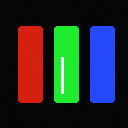4 line_v: (61, 57, 63, 93)
